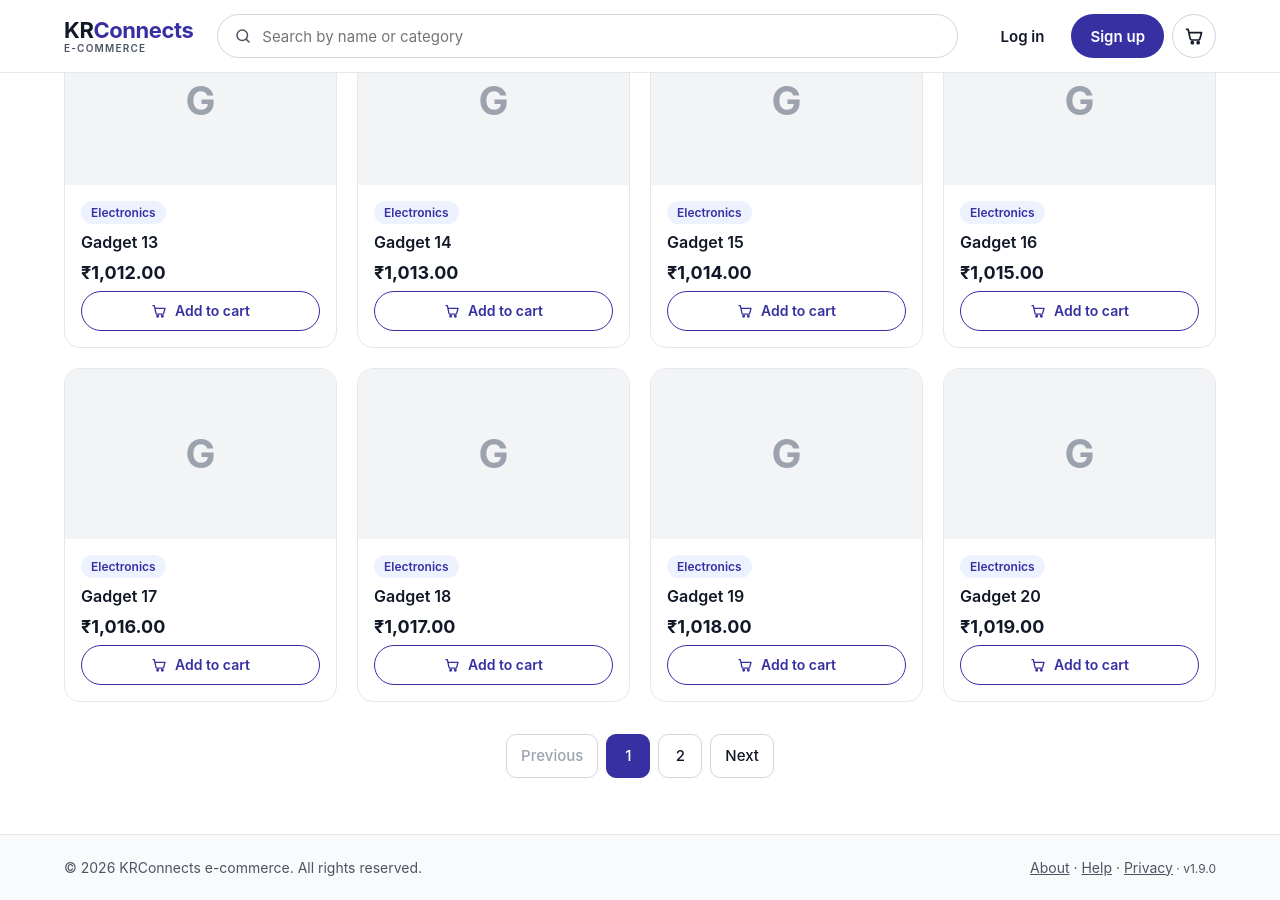
Test case: App (storefront home page) › page 2 button loads the next page
(page scrolled)
Click the button named "Page 2" at [680, 756], box [658,734,702,778]
(page scrolled)
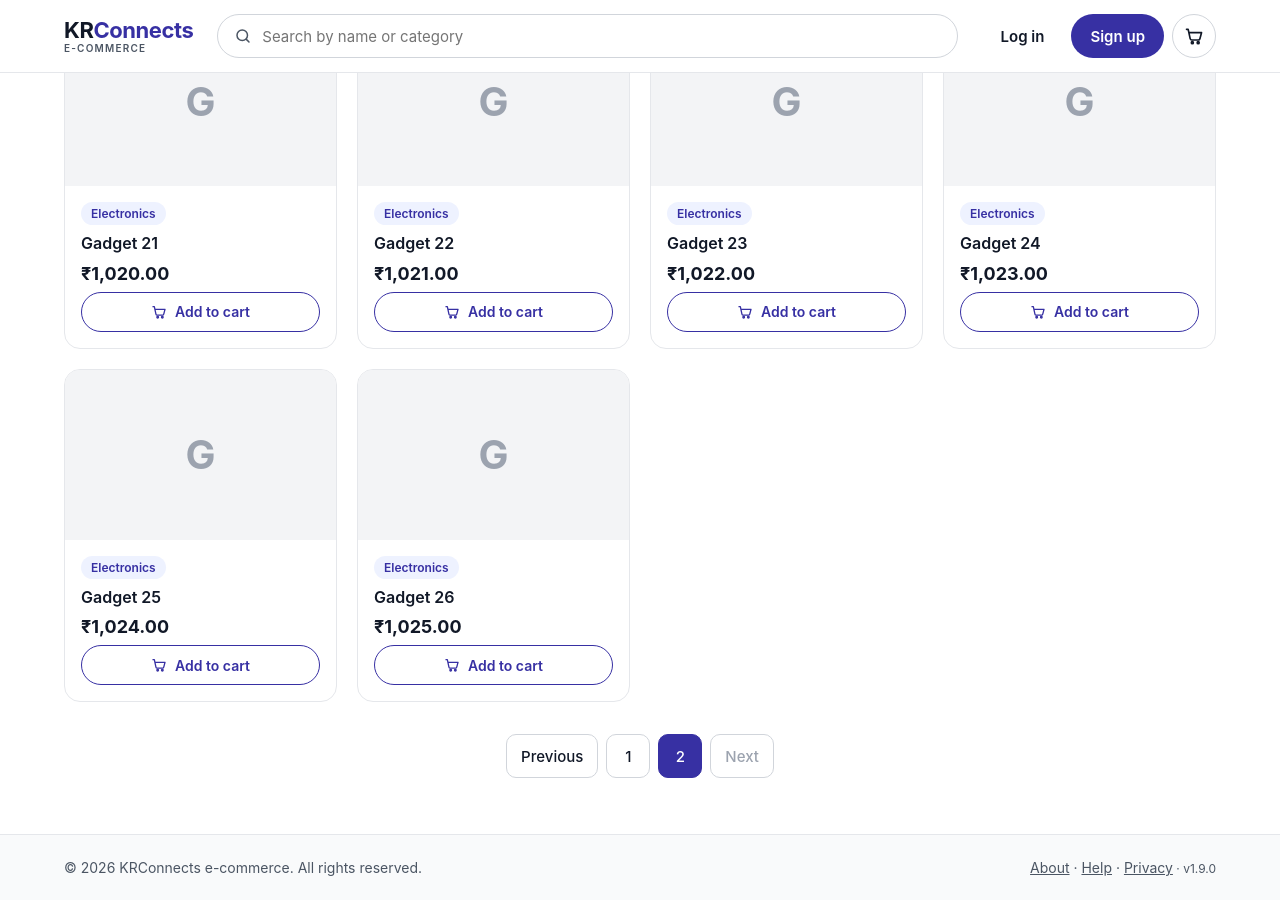
Expected: the text "Wireless Mouse" is gone
